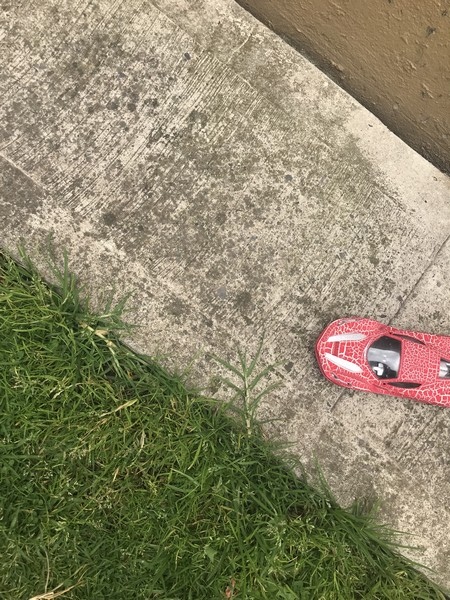RC: (313, 314, 450, 410)
